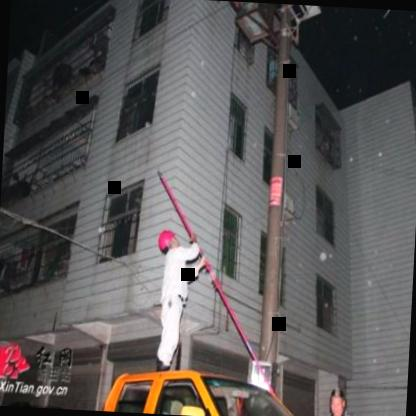head: (325, 384, 349, 416)
helmet: (154, 228, 184, 255)
